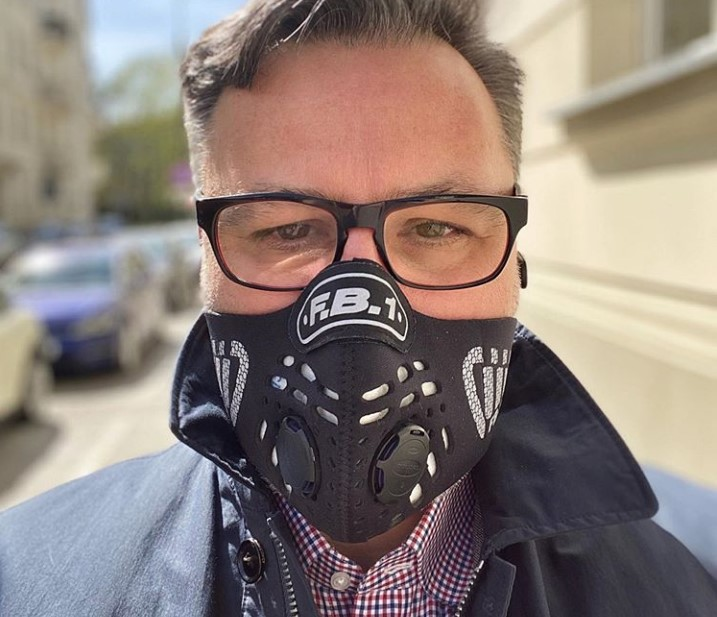face_with_mask: (167, 1, 520, 540)
